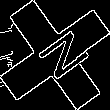N_SW: (23, 24, 87, 86)
